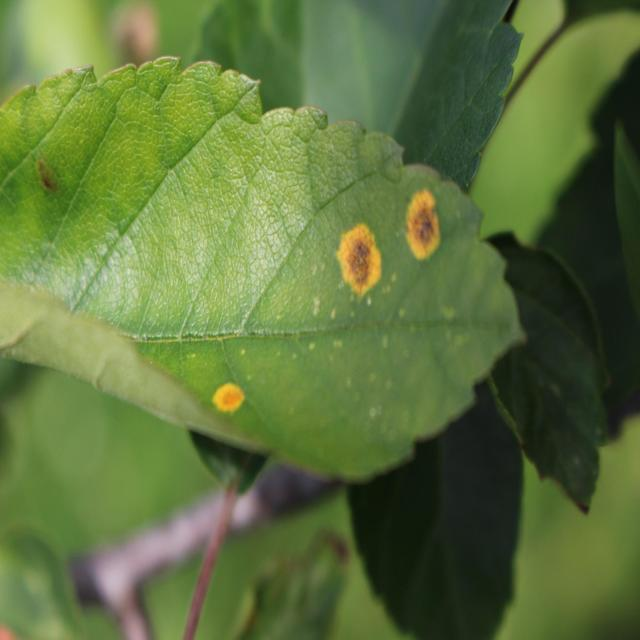Rust: (326, 199, 388, 317), (396, 156, 454, 276), (202, 353, 258, 444)
